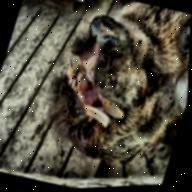boar: (19, 0, 192, 191)
